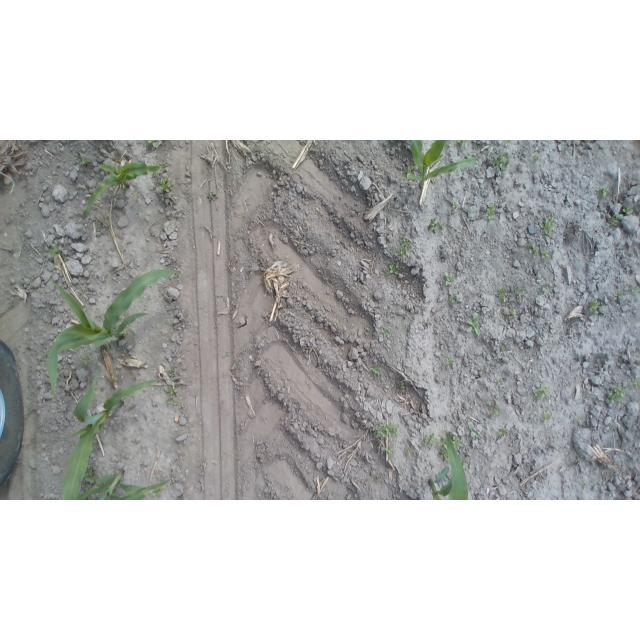Maize: (35, 269, 189, 402), (60, 366, 158, 500), (83, 159, 176, 221), (405, 140, 479, 186), (427, 432, 469, 501), (77, 470, 171, 500)
Weeds: (438, 433, 470, 463), (373, 422, 400, 442), (528, 243, 553, 263), (466, 311, 484, 338), (607, 385, 630, 404), (539, 213, 557, 236), (79, 464, 98, 485), (493, 151, 512, 169), (162, 387, 180, 405), (396, 238, 410, 261), (423, 433, 441, 450), (427, 218, 447, 233), (603, 213, 623, 228), (488, 402, 503, 418), (533, 384, 550, 398), (484, 204, 498, 220), (469, 423, 483, 438), (48, 244, 63, 258), (498, 423, 509, 440), (158, 180, 172, 193), (386, 264, 400, 276), (83, 353, 94, 368), (589, 300, 601, 313), (445, 271, 456, 285), (80, 157, 94, 168), (599, 187, 612, 198), (496, 290, 507, 303), (539, 413, 553, 423), (531, 151, 542, 163), (455, 141, 469, 150), (517, 288, 528, 299), (382, 326, 391, 339), (573, 415, 583, 426), (207, 192, 217, 203), (151, 489, 163, 498), (167, 367, 176, 379), (446, 358, 458, 367), (504, 140, 514, 150), (452, 201, 461, 212), (623, 207, 634, 216), (147, 141, 161, 148), (132, 193, 146, 200), (501, 346, 511, 355), (508, 309, 516, 320), (373, 366, 382, 375), (633, 379, 640, 390), (542, 286, 550, 295), (632, 286, 640, 295), (400, 381, 406, 392), (386, 448, 395, 455), (449, 296, 457, 303), (230, 364, 239, 370), (619, 293, 626, 300), (408, 448, 413, 457), (478, 291, 485, 297)
